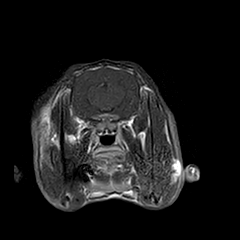Brain: (56, 38, 155, 136)
